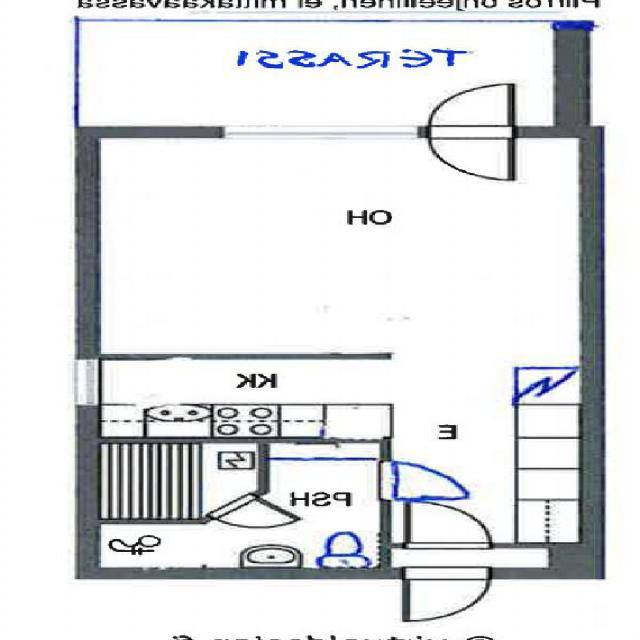door: (404, 567, 490, 620), (429, 85, 512, 138), (430, 126, 512, 178), (406, 501, 491, 548), (208, 494, 298, 538), (381, 461, 467, 499)
